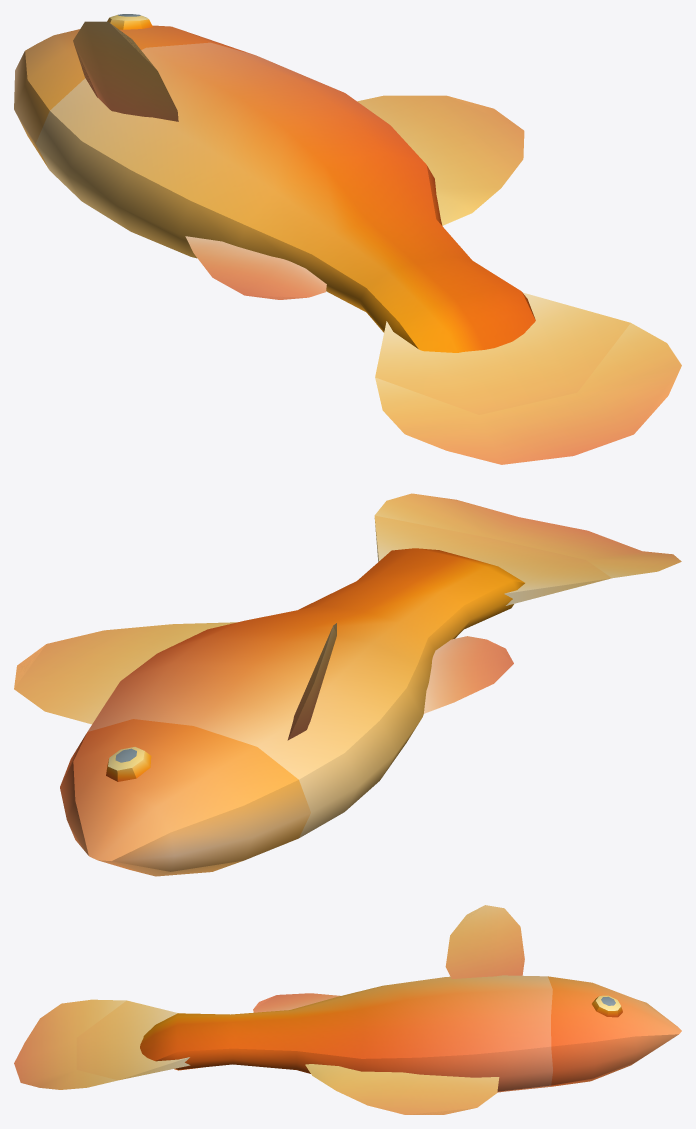
Rendered from fish_003.fbx.
3 renders of one model, top to bottom at view 1: azimuth 30°, elevation 25°; view 2: azimuth 150°, elevation 25°; view 3: azimuth 270°, elevation 25°, orthographic. The views are drawn at different scales.
Parts seen in each view (by area): view 1: fish_003; view 2: fish_003; view 3: fish_003.
Boxes of the visible parts, x1,y1,x2,y2 form: fish_003: (14,14,681,464); fish_003: (14,493,681,876); fish_003: (14,905,681,1114).
Size of the model in its own units: 8.44 by 19.37 by 4.5.
